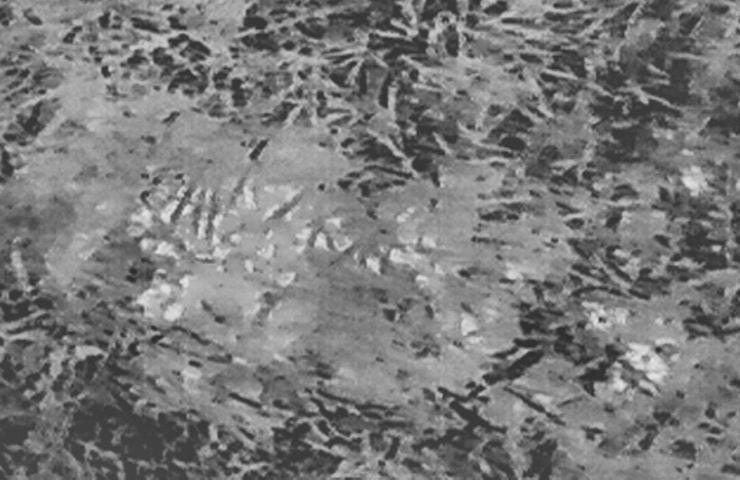landmines: (121, 141, 366, 331)
